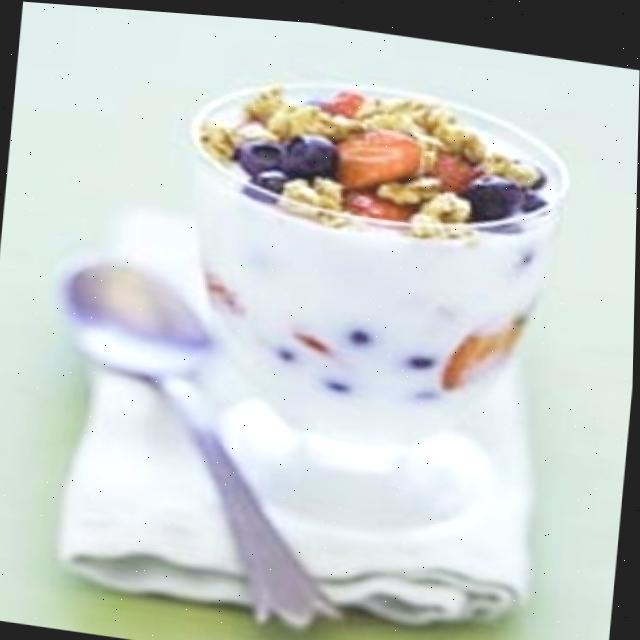蛋糕甜品: (106, 39, 587, 568)
